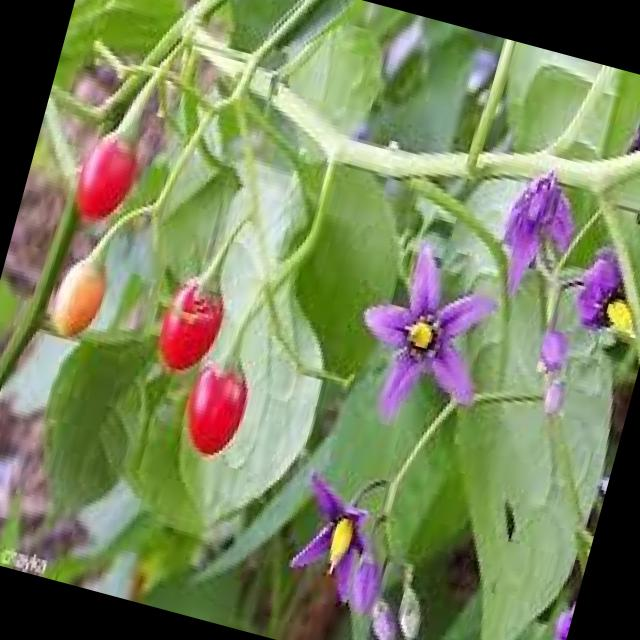Poisonous-Deadly_Nightshade: (235, 44, 640, 640), (0, 0, 386, 533)
